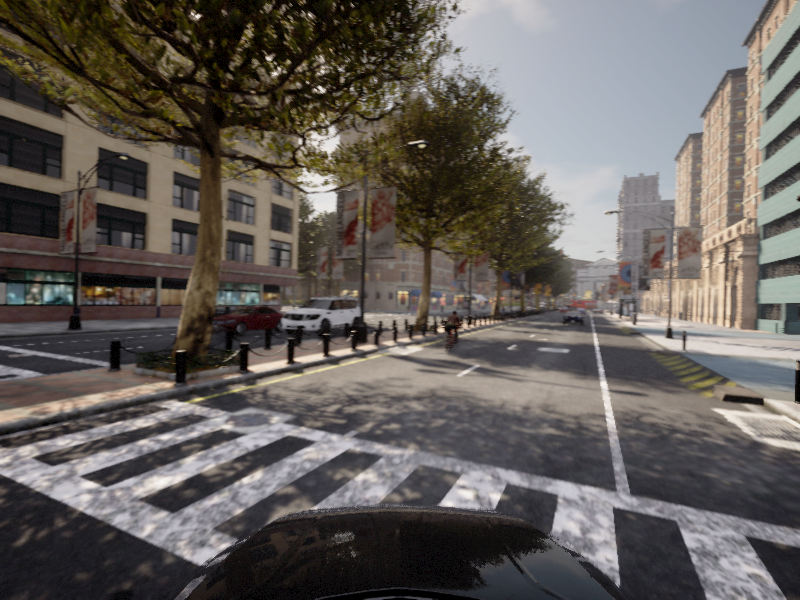vehicle: (276, 295, 367, 339), (201, 305, 294, 336), (438, 310, 466, 354), (562, 310, 584, 325)
